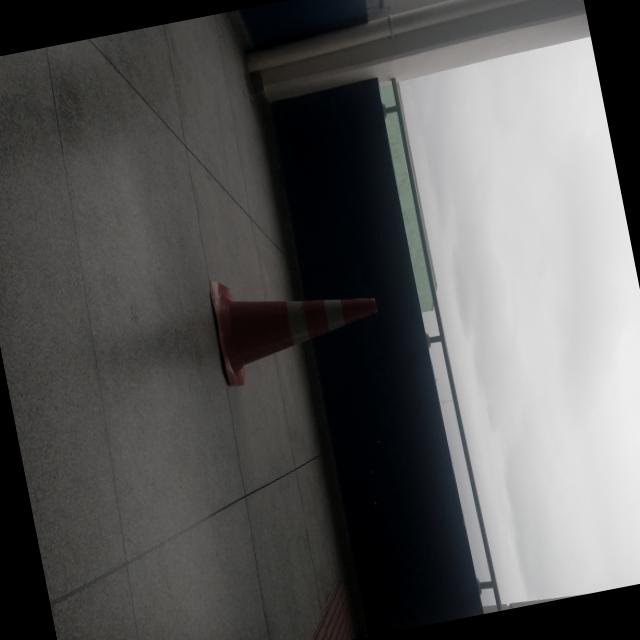cone: (195, 252, 392, 387)
